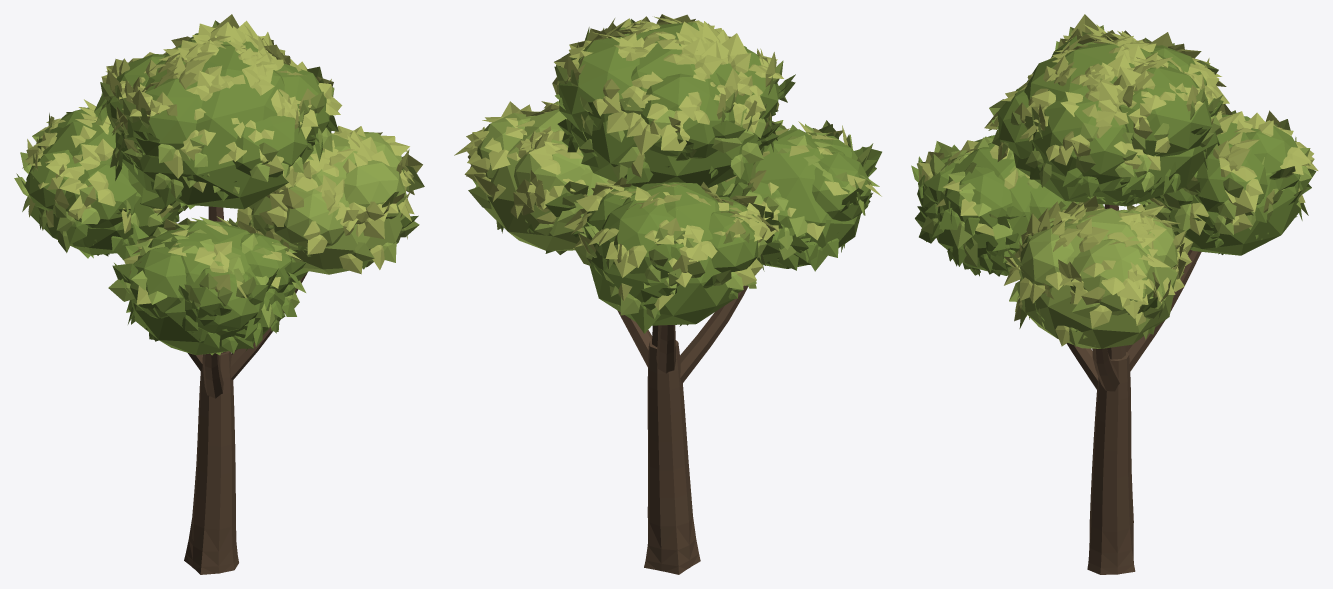
3 views of the same model, side by side, from view 1: azimuth 30°, elevation 25°; view 2: azimuth 150°, elevation 25°; view 3: azimuth 270°, elevation 25° (orthographic). The views are drawn at different scales.
Parts seen in each view (by area): view 1: crown, trunk; view 2: crown, trunk; view 3: crown, trunk.
Boxes of the visible parts, x1,y1,x2,y2 form: crown: [14, 14, 424, 355]; trunk: [184, 206, 307, 574]; crown: [454, 14, 881, 333]; trunk: [617, 285, 748, 574]; crown: [911, 14, 1318, 348]; trunk: [1066, 204, 1201, 574].
Size of the model in its own units: 3.73 by 5.39 by 3.82.
